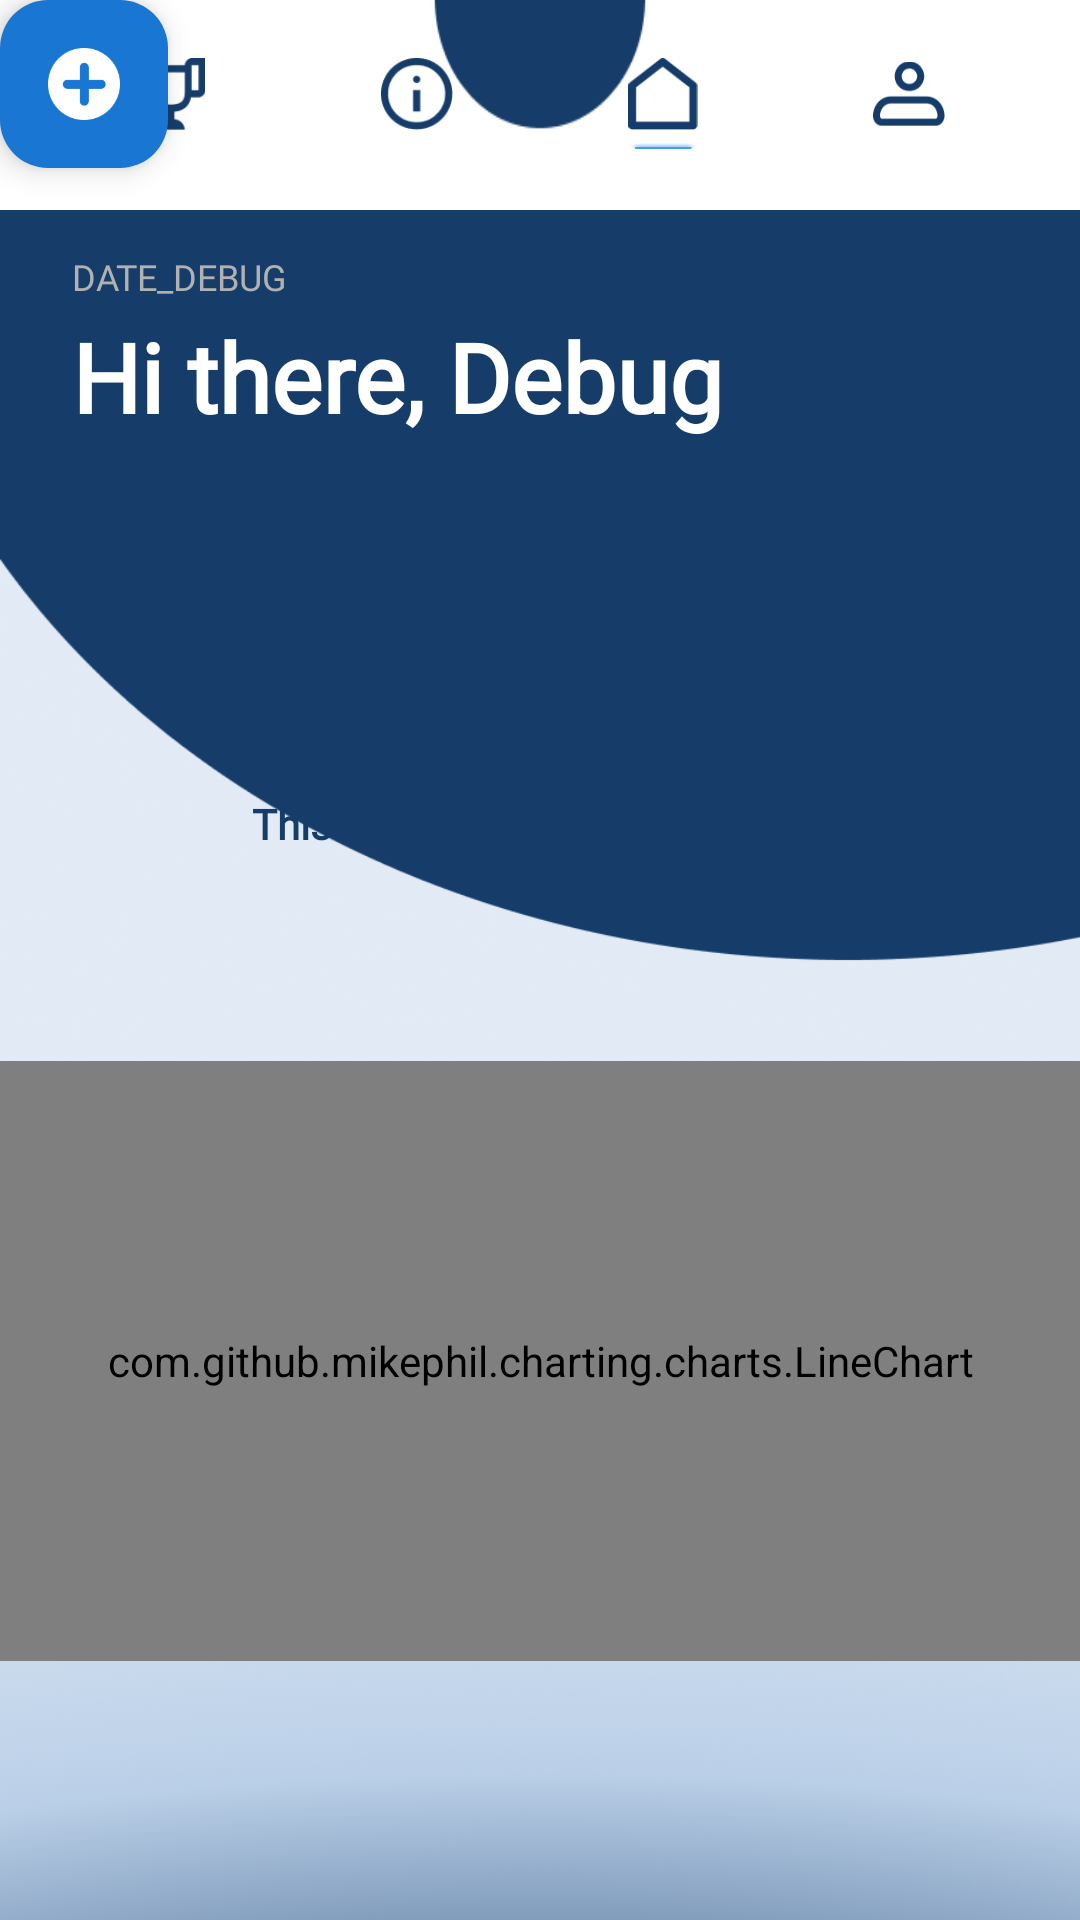

Screen size 1080*1920. Icon name, then its box in pixels as (x1, y1, x2, y2):
Add Device: (0, 0, 168, 168)
Home: (628, 58, 698, 130)
Profile: (873, 62, 945, 126)
Recommendations: (381, 58, 453, 130)
